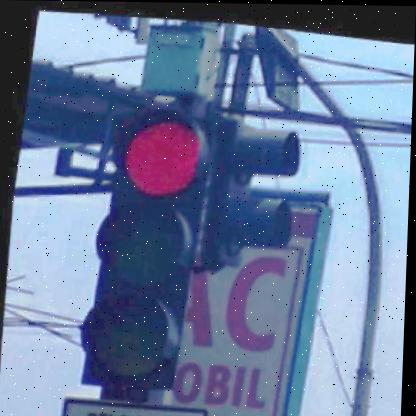Traffic Light -Red-: (63, 100, 218, 395)
